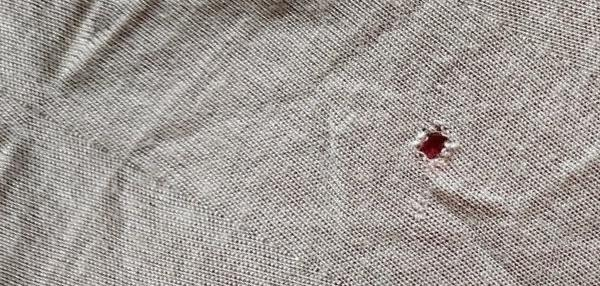hole: (411, 122, 457, 166)
